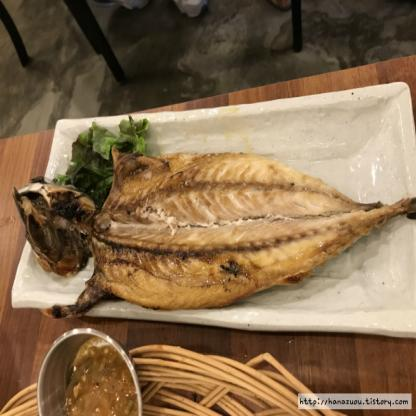Peixe: (0, 130, 416, 326)
